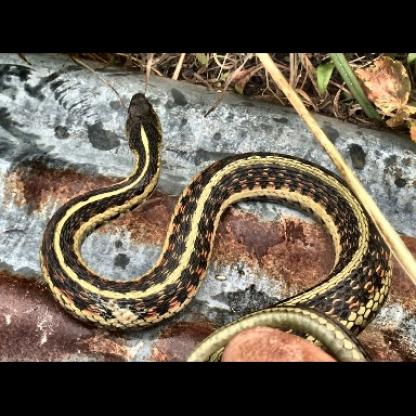Snake: (40, 86, 394, 363)
